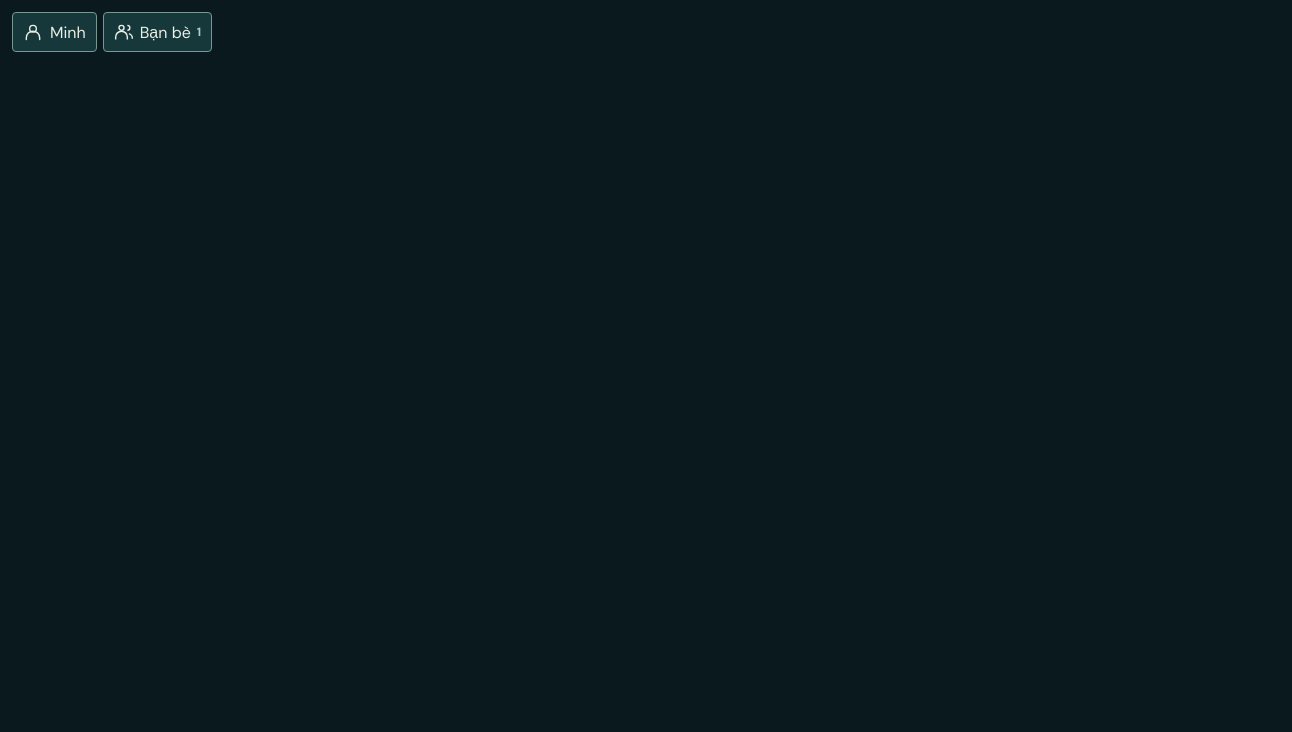
player code and online friends › shows the pending invitation and prevents a duplicate send
Click the button with aria-label "Bạn bè, 1 người online". click: (157, 32)
box: [103, 12, 212, 52]
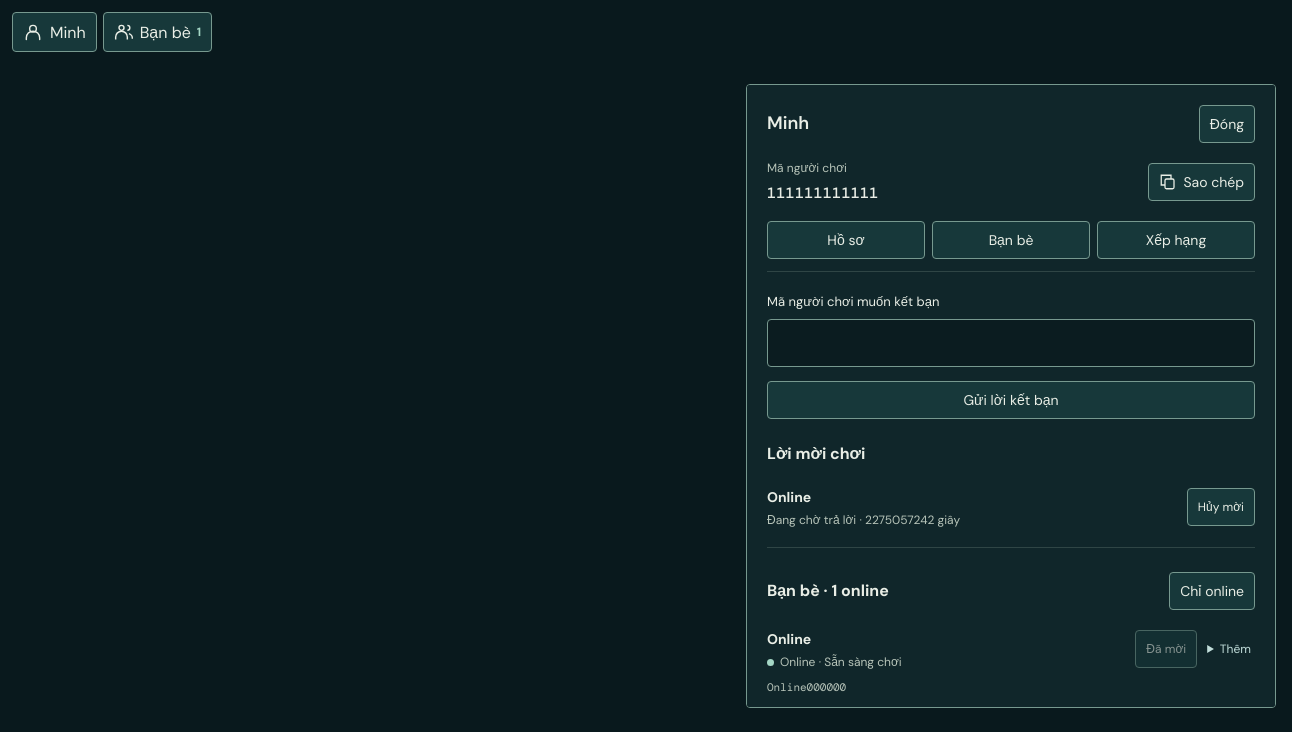
Check: the button with aria-label "Mời Online chơi" reads "Đã mời", box [1135, 630, 1197, 668]
Check: the button with aria-label "Mời Online chơi" is disabled, box [1135, 630, 1197, 668]
Check: the button "Hủy mời" is shown, box [1187, 488, 1255, 526]
